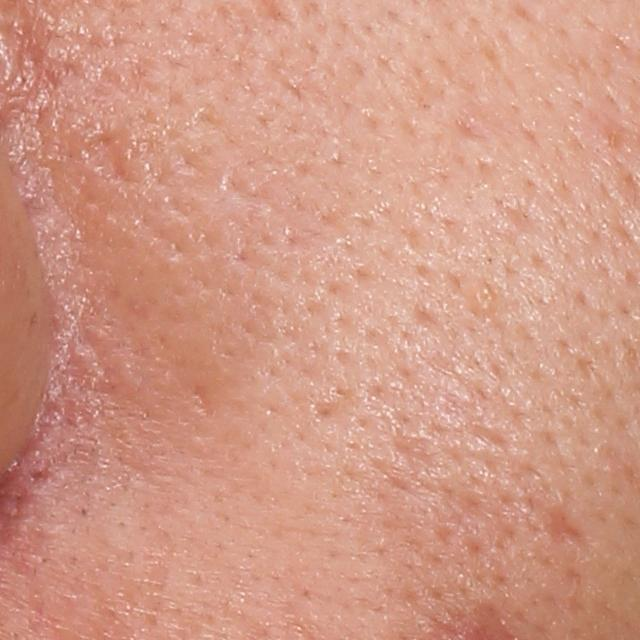atrophic_scar: (85, 128, 136, 185), (543, 503, 592, 552), (191, 382, 220, 419)
comedo: (468, 277, 498, 313)
